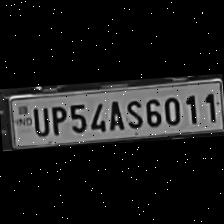0: (159, 92, 181, 125)
1: (198, 90, 218, 123), (182, 91, 200, 124)
4: (86, 98, 106, 132)
5: (65, 100, 87, 133)
6: (142, 94, 162, 128)
A: (102, 97, 124, 130)
P: (46, 102, 66, 136)
S: (121, 94, 143, 128)
U: (28, 104, 49, 136)
